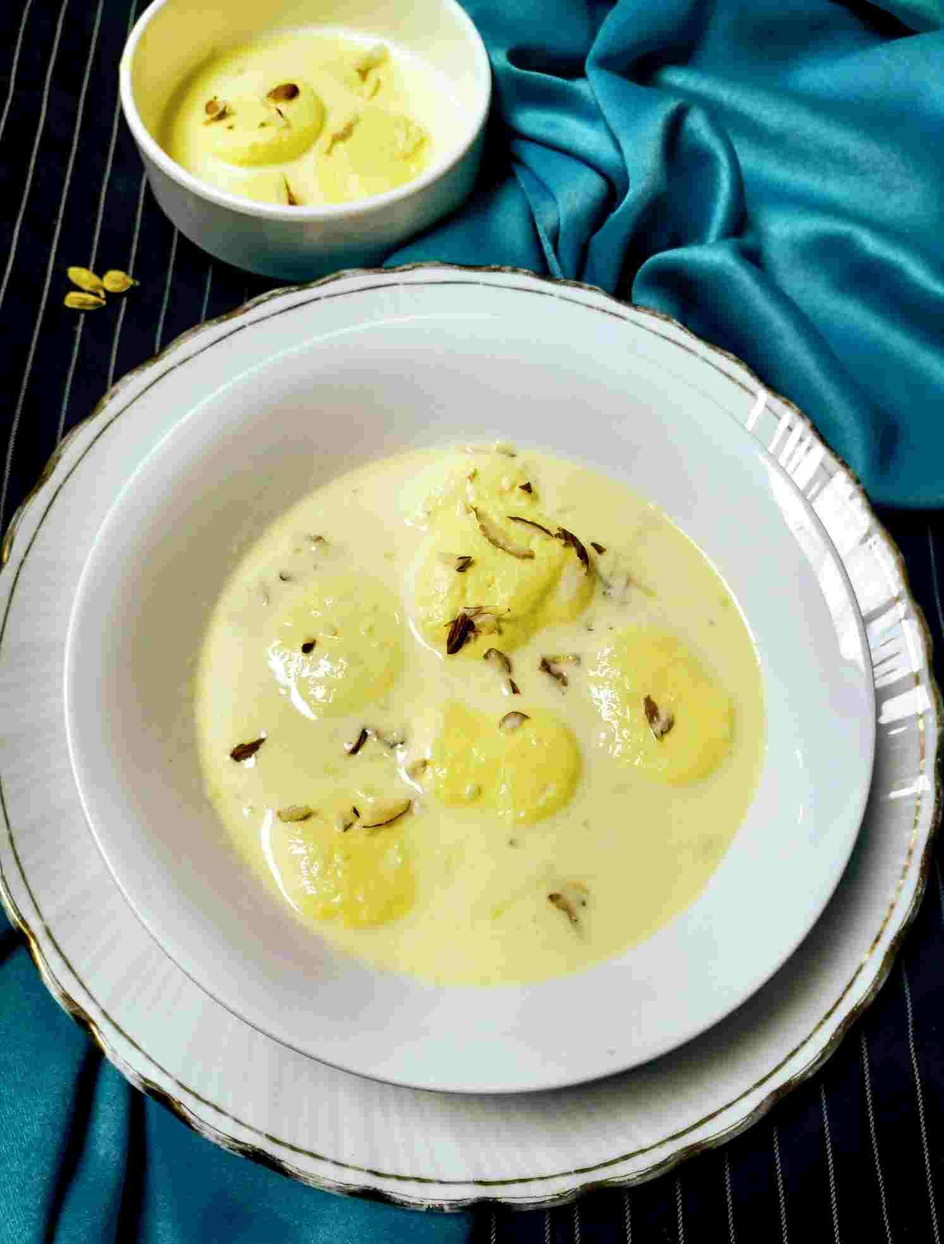RasMalai: (188, 443, 773, 987), (165, 13, 440, 206)
